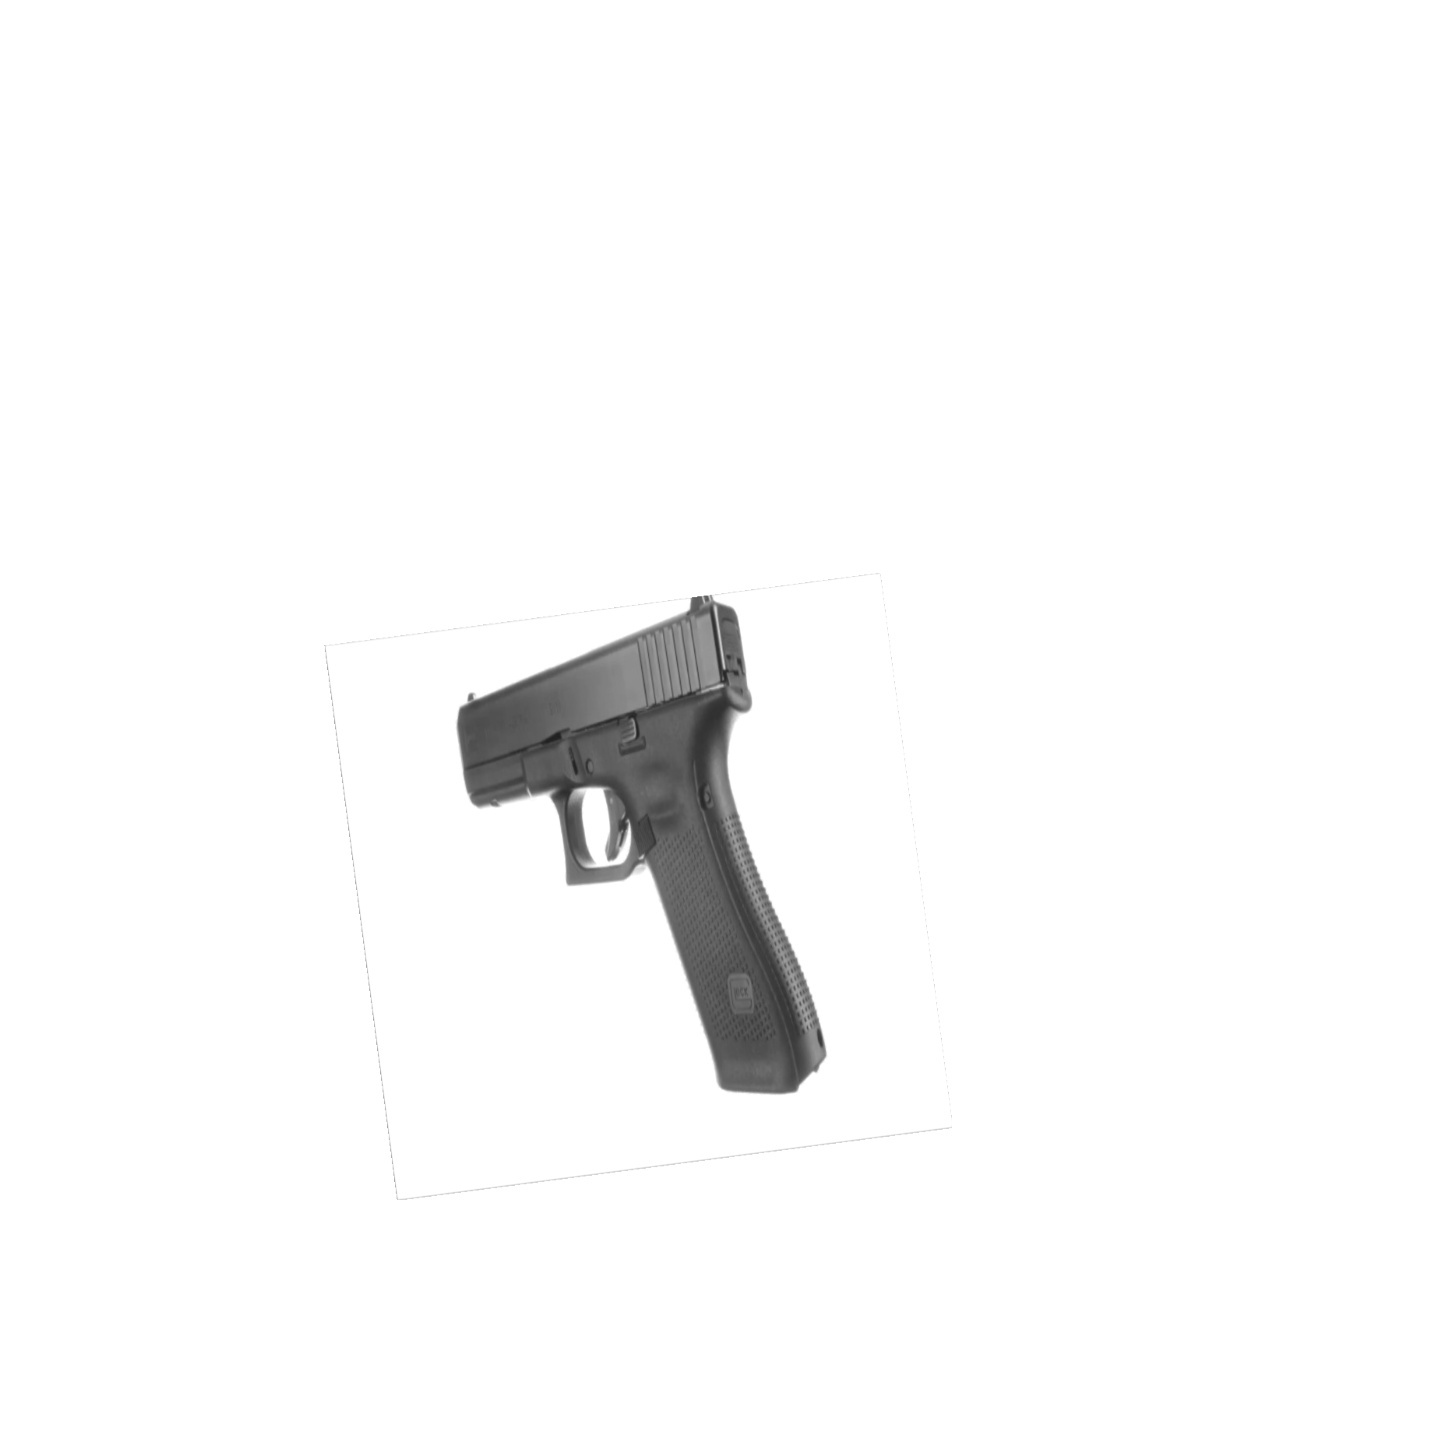gun: (450, 590, 828, 1100)
